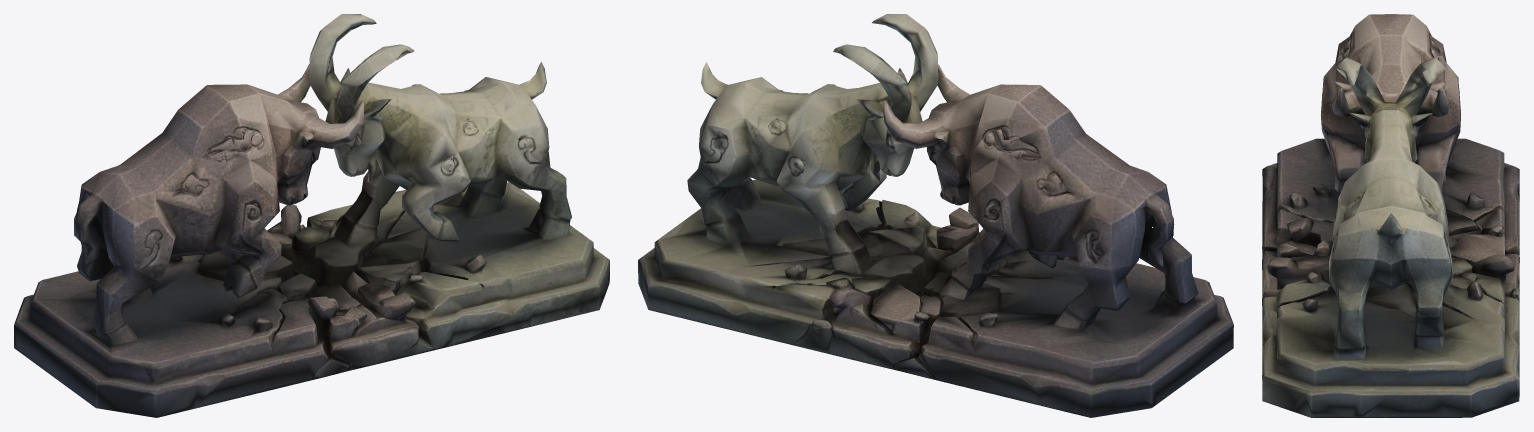
File: chong_chou_wei.glb
3 views of the same model, side by side, from view 1: azimuth 30°, elevation 25°; view 2: azimuth 150°, elevation 25°; view 3: azimuth 270°, elevation 25° (orthographic). The views are drawn at different scales.
Visible parts, largest first — view 1: tripo_node_056f56a0-308b-46ce-870c-df49a755d392; view 2: tripo_node_056f56a0-308b-46ce-870c-df49a755d392; view 3: tripo_node_056f56a0-308b-46ce-870c-df49a755d392.
Boxes of the visible parts, left/top/right/bottom form: tripo_node_056f56a0-308b-46ce-870c-df49a755d392: left=14, top=14, right=609, bottom=417; tripo_node_056f56a0-308b-46ce-870c-df49a755d392: left=638, top=14, right=1233, bottom=417; tripo_node_056f56a0-308b-46ce-870c-df49a755d392: left=1262, top=14, right=1519, bottom=417.
Size of the model in its own units: 1 by 0.5045 by 0.4483.
Materials: 1 (1 with a texture image).
